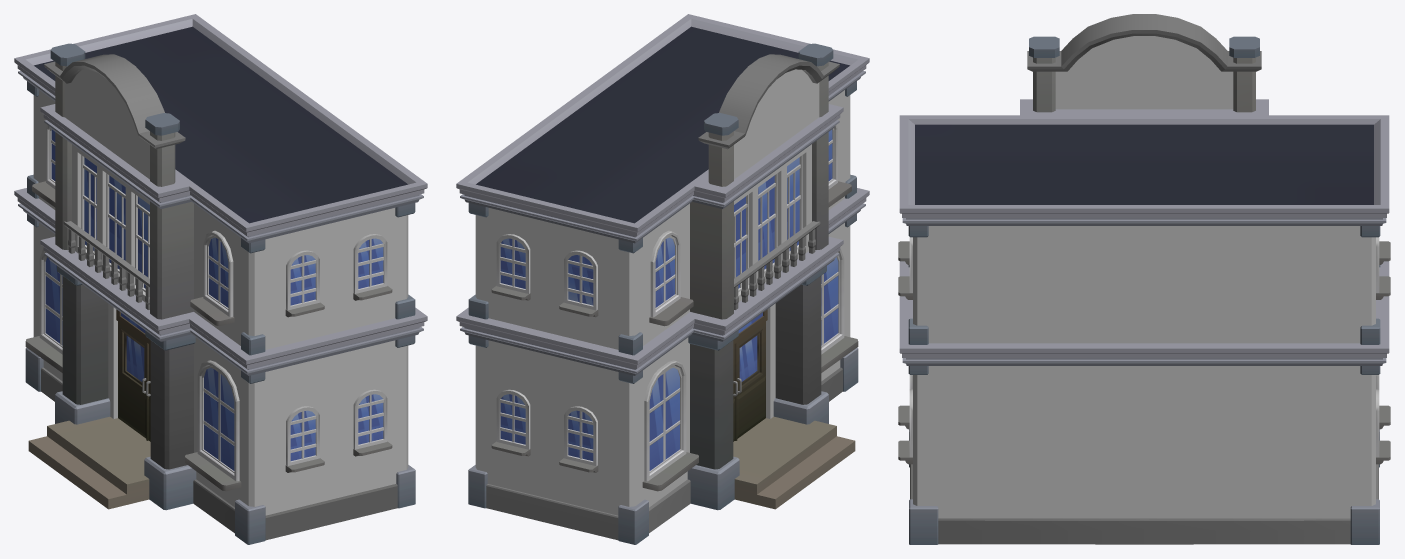
The model's file is Building_24_N.fbx.
3 views of the same model, side by side, from view 1: azimuth 30°, elevation 25°; view 2: azimuth 150°, elevation 25°; view 3: azimuth 270°, elevation 25° (orthographic). The views are drawn at different scales.
Parts seen in each view (by area): view 1: Building_24_N; view 2: Building_24_N; view 3: Building_24_N.
Boxes of the visible parts, x1,y1,x2,y2 form: Building_24_N: [14, 14, 427, 544]; Building_24_N: [456, 14, 869, 544]; Building_24_N: [898, 14, 1390, 544].
Bounding box in the file's own units: 535 × 847 × 888.
